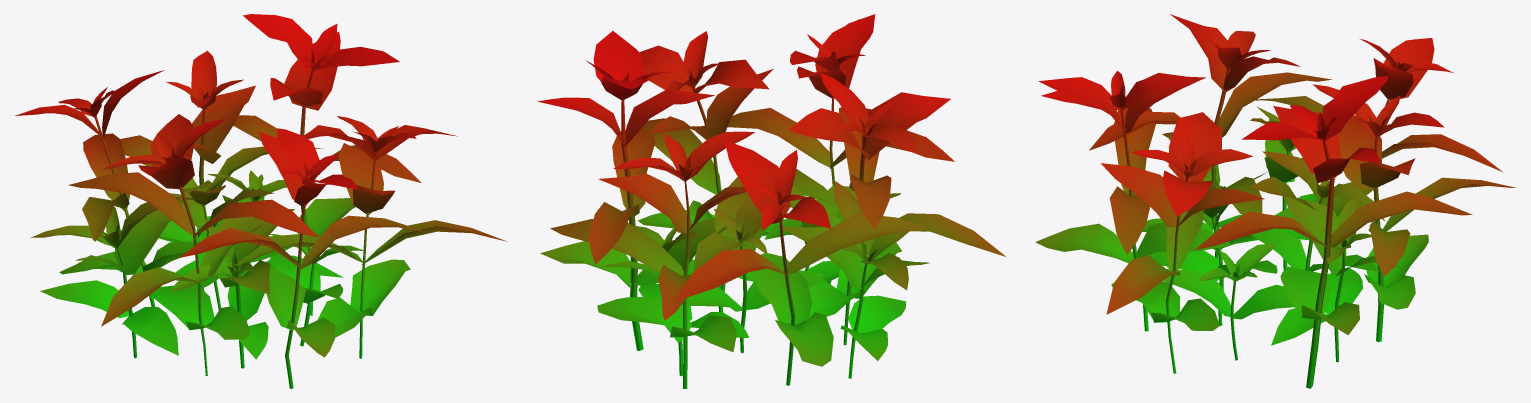
Rendered from Var5_LOD2.fbx.
The picture shows the model from 3 angles, left to right: view 1: azimuth 30°, elevation 25°; view 2: azimuth 150°, elevation 25°; view 3: azimuth 270°, elevation 25°; orthographic projection. The views are drawn at different scales.
Visible parts, largest first — view 1: _jxta_Var5_LOD2; view 2: _jxta_Var5_LOD2; view 3: _jxta_Var5_LOD2.
Boxes of the visible parts, x1,y1,x2,y2 form: _jxta_Var5_LOD2: [15, 14, 507, 388]; _jxta_Var5_LOD2: [537, 14, 1005, 388]; _jxta_Var5_LOD2: [1035, 14, 1515, 388].
Bounding box in the file's own units: 30.92 × 21.89 × 32.2.
